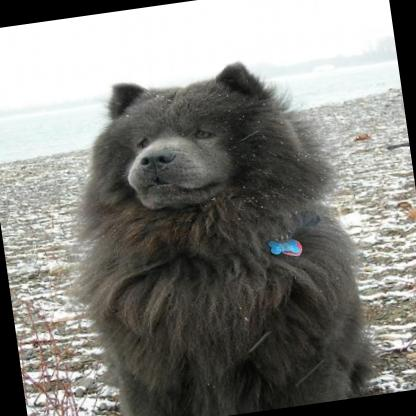chow: (44, 48, 377, 416)
